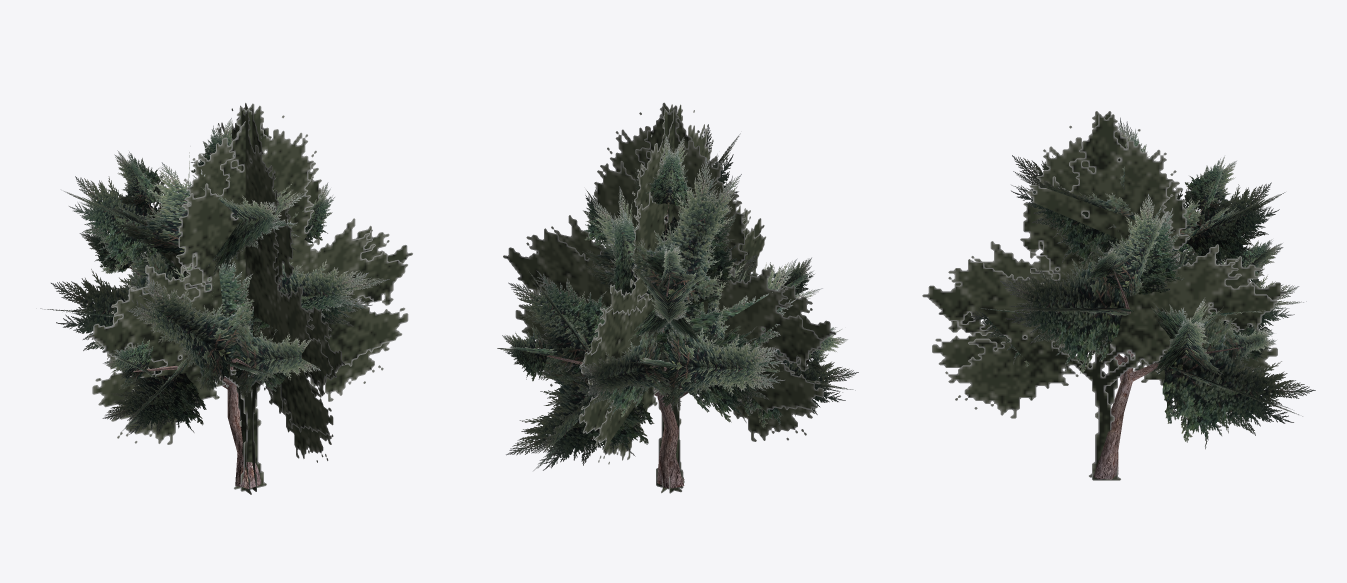
Rendered from Juniper1.fbx.
The picture shows the model from 3 angles, left to right: view 1: azimuth 30°, elevation 25°; view 2: azimuth 150°, elevation 25°; view 3: azimuth 270°, elevation 25°; orthographic projection. The views are drawn at different scales.
Visible parts, largest first — view 1: Billboard-Juniper1, Juniper1-LOD0; view 2: Juniper1-LOD0, Billboard-Juniper1; view 3: Juniper1-LOD0, Billboard-Juniper1.
Boxes of the visible parts, x1,y1,x2,y2 form: Billboard-Juniper1: (87,103,412,494); Juniper1-LOD0: (40,118,389,488); Juniper1-LOD0: (497,124,858,488); Billboard-Juniper1: (503,102,836,493); Juniper1-LOD0: (968,117,1315,479); Billboard-Juniper1: (922,111,1287,480).
Size of what is drawn, in the model's own units: 437 by 437 by 457.
